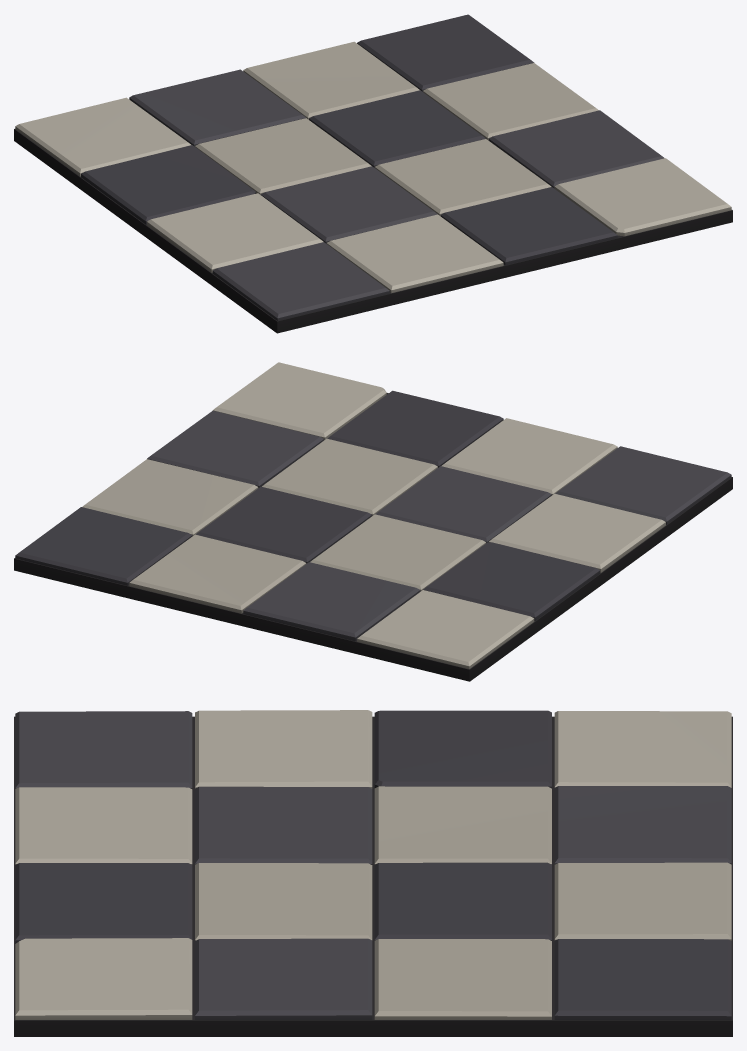
Rendered from floor_checker_large_A.glb.
3 renders of one model, top to bottom at view 1: azimuth 30°, elevation 25°; view 2: azimuth 150°, elevation 25°; view 3: azimuth 270°, elevation 25°, orthographic. The views are drawn at different scales.
Visible parts, largest first — view 1: Item; view 2: Item; view 3: Item.
Boxes of the visible parts, x1,y1,x2,y2 form: Item: [14, 14, 732, 333]; Item: [14, 362, 732, 681]; Item: [14, 710, 732, 1036].
Size of the model in its own units: 4 by 0.1554 by 4.
2 materials, 2 textured.
